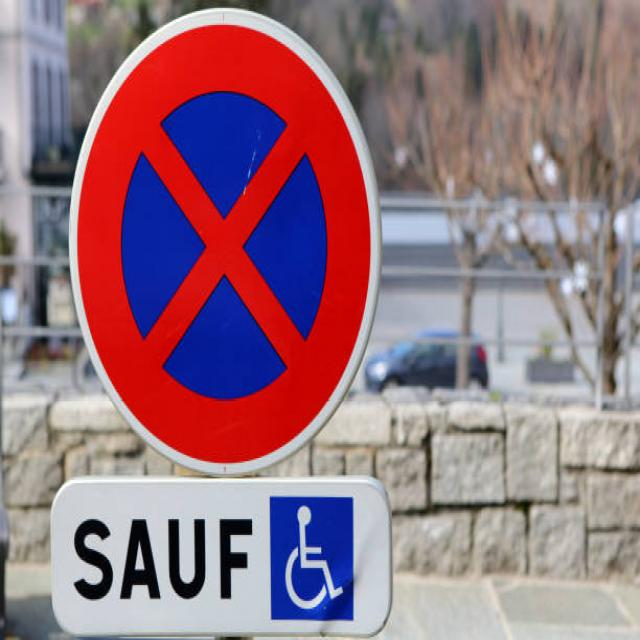no_parking: (62, 13, 392, 479)
